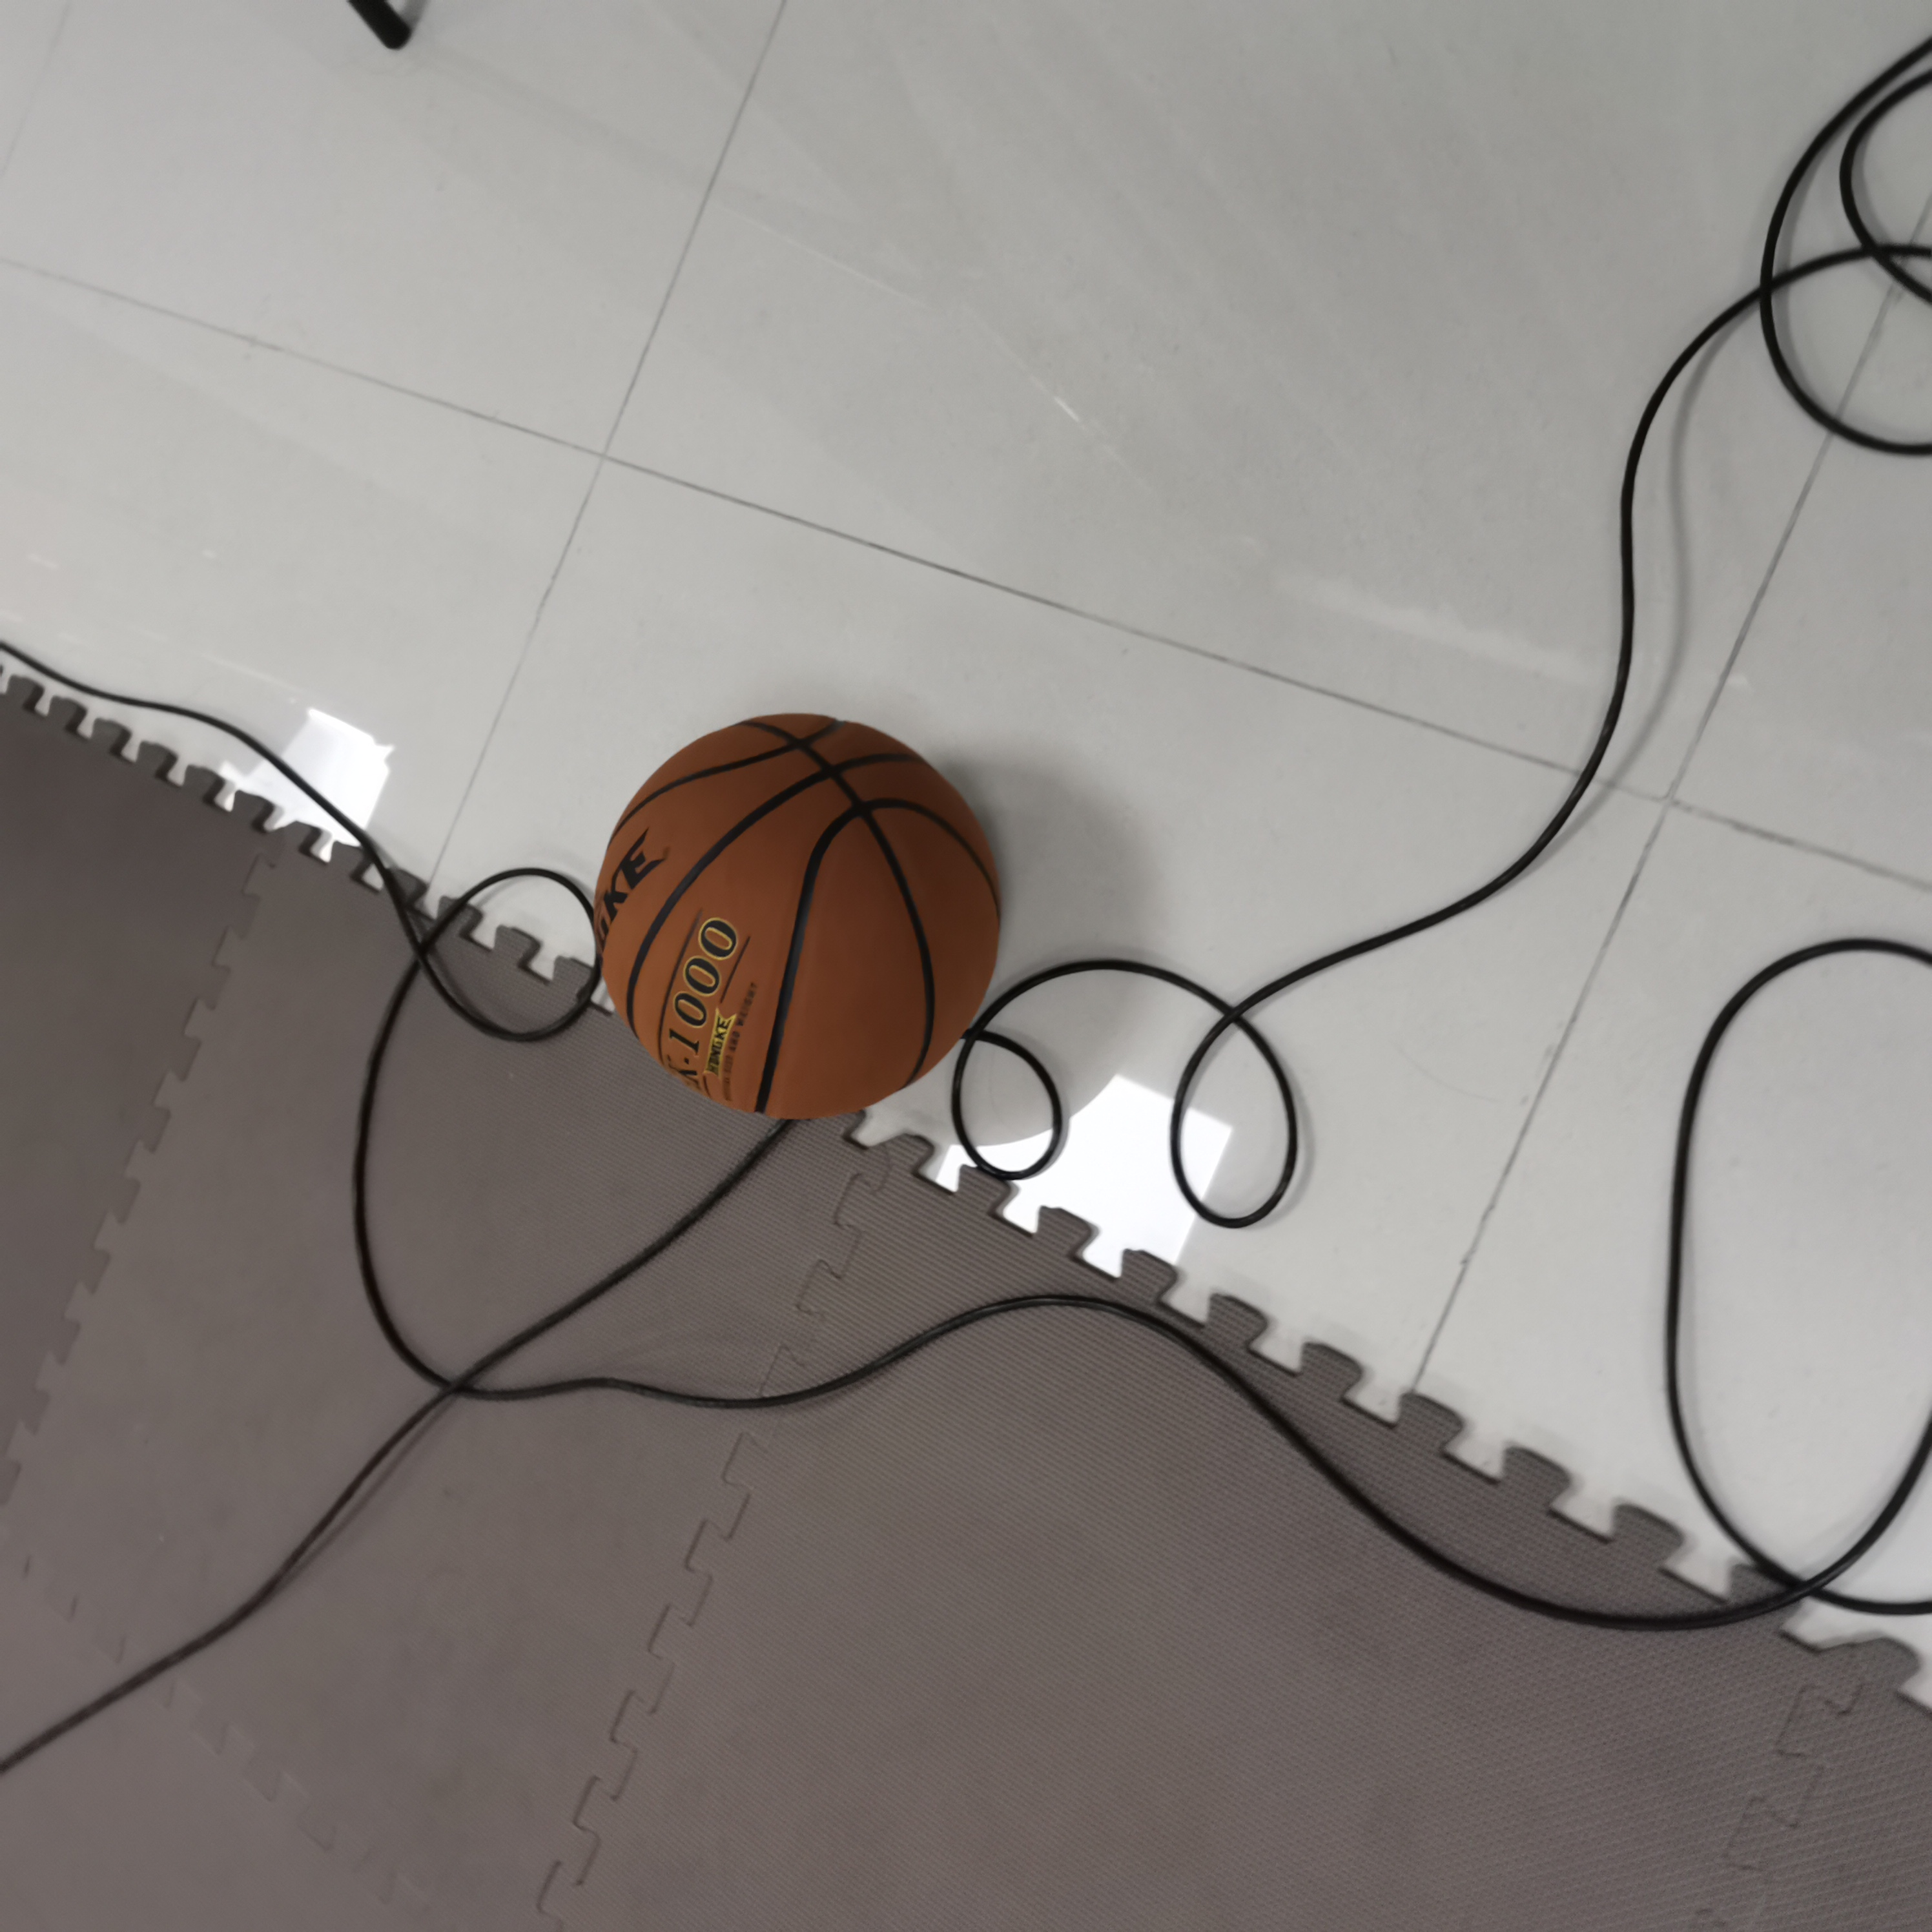basketball: (594, 713, 1005, 1123)
